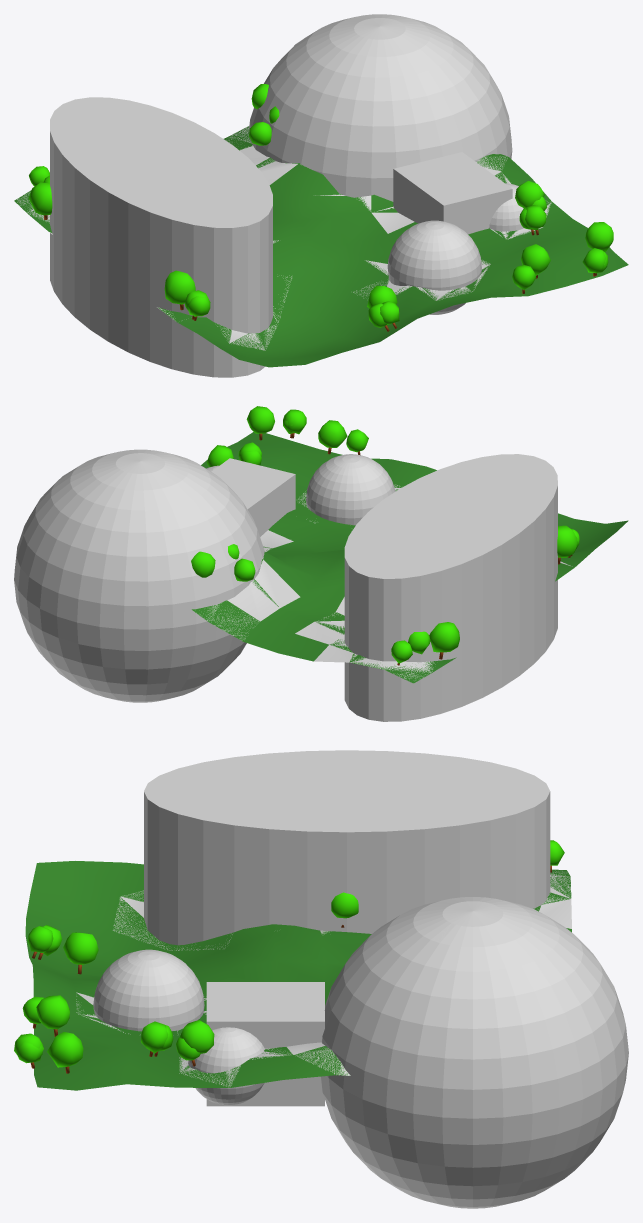
Rendered from testing_level_mesh.glb.
3 views of the same model, one above another, from view 1: azimuth 30°, elevation 25°; view 2: azimuth 150°, elevation 25°; view 3: azimuth 270°, elevation 25° (orthographic). The views are drawn at different scales.
Parts seen in each view (by area): view 1: GrassMask-noimp, GroundMesh-col, DeckMaskj-noimp, grass_mesh, Tree.020-col, Tree.030-col, Tree.019-col, Tree.026-col, Tree.034-col; view 2: GrassMask-noimp, GroundMesh-col, grass_mesh, DeckMaskj-noimp, Tree.019-col, Tree.030-col, Tree.026-col, Tree.020-col, Tree.016-col; view 3: GrassMask-noimp, GroundMesh-col, DeckMaskj-noimp, grass_mesh, Tree.030-col, Tree.029-col, Tree.026-col, Tree.034-col, Tree.003-col.
Boxes of the visible parts, <box> form: GrassMask-noimp: <box>50,14,523,377</box>; GroundMesh-col: <box>14,126,628,367</box>; DeckMaskj-noimp: <box>393,152,512,234</box>; grass_mesh: <box>17,126,551,350</box>; Tree.020-col: <box>164,270,195,310</box>; Tree.030-col: <box>585,222,613,252</box>; Tree.019-col: <box>28,182,52,219</box>; Tree.026-col: <box>521,244,550,278</box>; Tree.034-col: <box>515,181,544,207</box>; GrassMask-noimp: <box>14,449,557,721</box>; GroundMesh-col: <box>191,432,628,683</box>; grass_mesh: <box>200,484,572,680</box>; DeckMaskj-noimp: <box>211,458,295,536</box>; Tree.019-col: <box>429,622,459,659</box>; Tree.030-col: <box>246,406,274,440</box>; Tree.026-col: <box>318,420,347,454</box>; Tree.020-col: <box>557,525,577,564</box>; Tree.016-col: <box>191,551,215,577</box>; GrassMask-noimp: <box>93,750,628,1208</box>; GroundMesh-col: <box>25,861,571,1090</box>; DeckMaskj-noimp: <box>206,982,324,1106</box>; grass_mesh: <box>76,870,571,1087</box>; Tree.030-col: <box>47,1032,83,1073</box>; Tree.029-col: <box>63,932,98,974</box>; Tree.026-col: <box>36,995,69,1036</box>; Tree.034-col: <box>180,1020,214,1053</box>; Tree.003-col: <box>140,1021,167,1056</box>.
Size of what is drawn, in the model's own units: 56.36 by 28.27 by 55.68.
